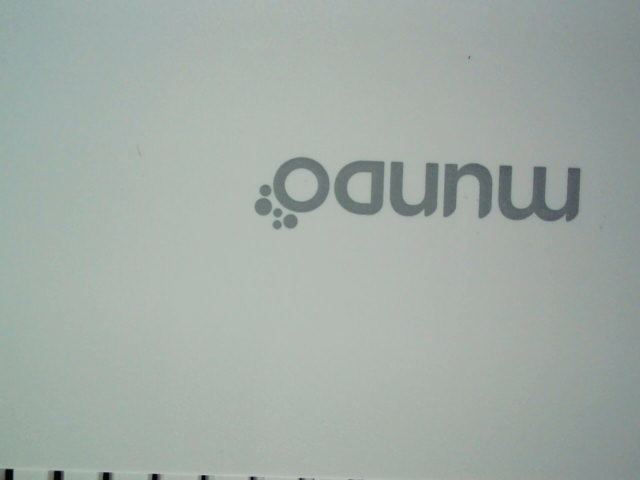BI_MUNDO: (240, 141, 584, 237)
